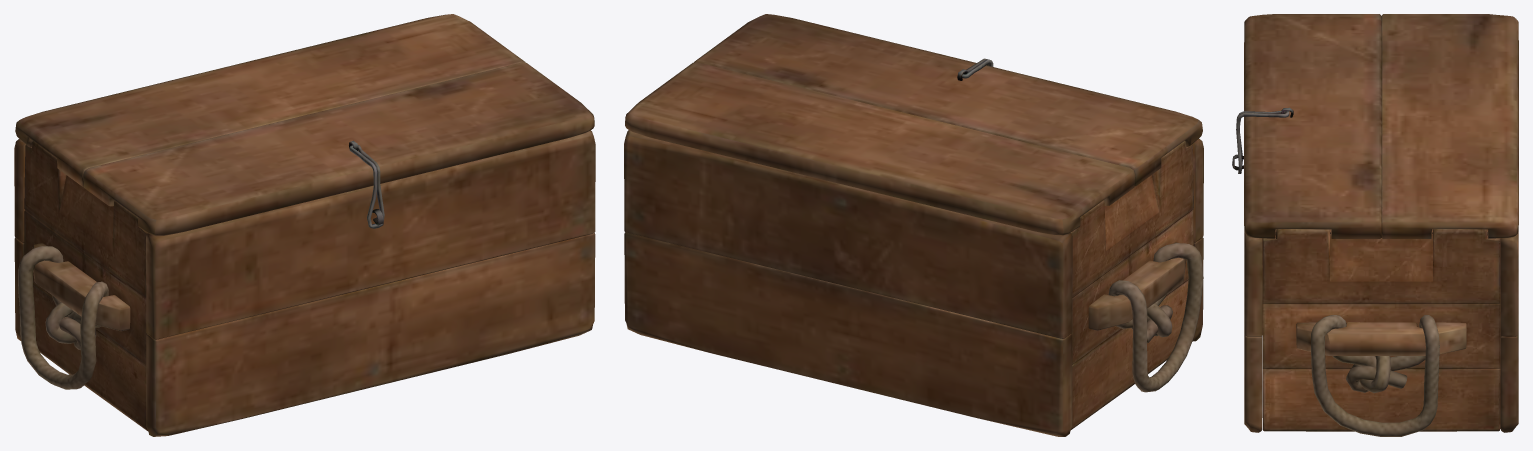
The model's file is crate.glb.
3 renders of one model, left to right at view 1: azimuth 30°, elevation 25°; view 2: azimuth 150°, elevation 25°; view 3: azimuth 270°, elevation 25°, orthographic. The views are drawn at different scales.
Visible parts, largest first — view 1: wooden_crate_01_lid; view 2: wooden_crate_01_lid; view 3: wooden_crate_01_lid.
Boxes of the visible parts, x1,y1,x2,y2 form: wooden_crate_01_lid: [14, 14, 595, 436]; wooden_crate_01_lid: [624, 14, 1203, 436]; wooden_crate_01_lid: [1232, 14, 1518, 436].
Bounding box in the file's own units: 0.8253 × 0.3495 × 0.4084.
1 material, 1 textured.
